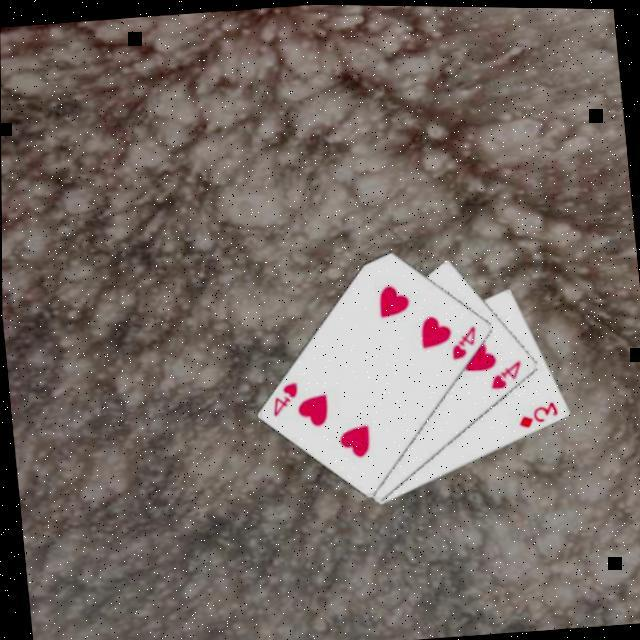3D: (514, 396, 562, 432)
4H: (268, 378, 304, 421), (486, 356, 527, 393), (447, 321, 482, 363)
